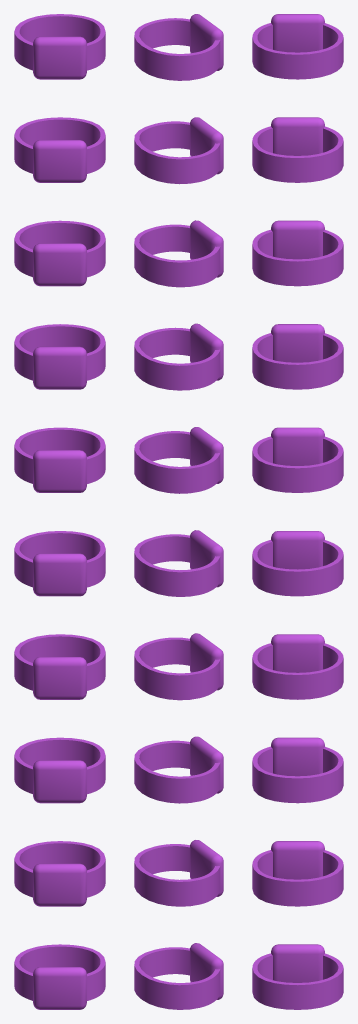
Rendered from watch_gall.DAE.
The picture shows the model from 3 angles, left to right: view 1: azimuth 90°, elevation 25°; view 2: azimuth 210°, elevation 25°; view 3: azimuth 270°, elevation 25°; orthographic projection.
Visible parts, largest first — view 1: dummyWatch008, dummyWatch003, dummyWatch006, dummyWatch01, dummyWatch004, dummyWatch009, dummyWatch007, dummyWatch002, dummyWatch010, dummyWatch005; view 2: dummyWatch003, dummyWatch006, dummyWatch002, dummyWatch004, dummyWatch007, dummyWatch01, dummyWatch008, dummyWatch009, dummyWatch010, dummyWatch005; view 3: dummyWatch003, dummyWatch008, dummyWatch005, dummyWatch010, dummyWatch007, dummyWatch002, dummyWatch004, dummyWatch009, dummyWatch01, dummyWatch006.
Boxes of the visible parts, x1,y1,x2,y2 form: dummyWatch008: [14, 737, 105, 803]; dummyWatch003: [14, 220, 105, 286]; dummyWatch006: [14, 531, 105, 596]; dummyWatch01: [14, 14, 105, 79]; dummyWatch004: [14, 324, 105, 389]; dummyWatch009: [14, 841, 105, 906]; dummyWatch007: [14, 634, 105, 699]; dummyWatch002: [14, 117, 105, 182]; dummyWatch010: [14, 944, 105, 1009]; dummyWatch005: [14, 427, 105, 492]; dummyWatch003: [134, 220, 223, 287]; dummyWatch006: [134, 530, 223, 596]; dummyWatch002: [134, 117, 223, 184]; dummyWatch004: [134, 323, 223, 390]; dummyWatch007: [134, 633, 223, 700]; dummyWatch01: [134, 14, 223, 80]; dummyWatch008: [134, 736, 223, 803]; dummyWatch009: [134, 840, 223, 906]; dummyWatch010: [134, 943, 223, 1009]; dummyWatch005: [134, 427, 223, 493]; dummyWatch003: [252, 220, 343, 286]; dummyWatch008: [252, 737, 343, 803]; dummyWatch005: [252, 427, 343, 492]; dummyWatch010: [252, 944, 343, 1009]; dummyWatch007: [252, 634, 343, 699]; dummyWatch002: [252, 117, 343, 182]; dummyWatch004: [252, 324, 343, 389]; dummyWatch009: [252, 841, 343, 906]; dummyWatch01: [252, 14, 343, 79]; dummyWatch006: [252, 531, 343, 596].
Bounding box in the file's own units: 17.95 × 19.98 × 235.
